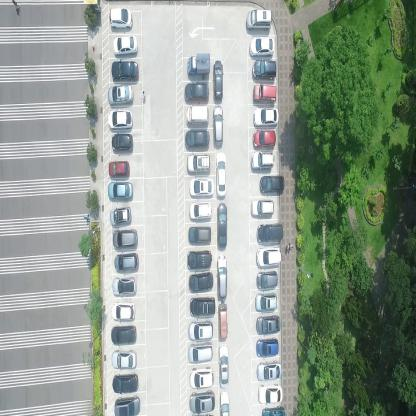car: (189, 365, 214, 390), (189, 390, 215, 414), (187, 318, 213, 341), (187, 270, 214, 292), (111, 59, 138, 81), (110, 324, 137, 346), (110, 348, 137, 370), (111, 372, 138, 394), (216, 254, 228, 302), (108, 7, 133, 30), (113, 251, 138, 274), (246, 8, 272, 30), (188, 176, 214, 198), (189, 295, 215, 317), (107, 83, 133, 105), (112, 228, 138, 250), (114, 394, 140, 416), (110, 276, 137, 297), (187, 52, 210, 76), (260, 172, 285, 194), (184, 81, 209, 103), (186, 152, 211, 174), (113, 34, 138, 56), (110, 300, 135, 322), (258, 382, 283, 404), (257, 221, 283, 242), (256, 358, 282, 379), (106, 108, 133, 128), (212, 57, 224, 101), (216, 150, 227, 198), (216, 200, 227, 248), (249, 36, 275, 56), (256, 246, 282, 266), (188, 342, 214, 362), (107, 181, 133, 201), (108, 205, 131, 227), (254, 106, 278, 127), (252, 127, 276, 148), (188, 201, 212, 222), (187, 249, 211, 270), (250, 150, 275, 170), (250, 197, 275, 217), (218, 344, 229, 389), (186, 105, 209, 126), (188, 224, 211, 245), (256, 314, 280, 334), (110, 132, 134, 152), (184, 129, 209, 148), (213, 105, 224, 147), (253, 83, 277, 102), (252, 60, 277, 78), (255, 292, 277, 312), (256, 336, 278, 356), (107, 159, 130, 178), (256, 269, 278, 288), (218, 302, 228, 340), (219, 389, 229, 415), (261, 405, 285, 415)
